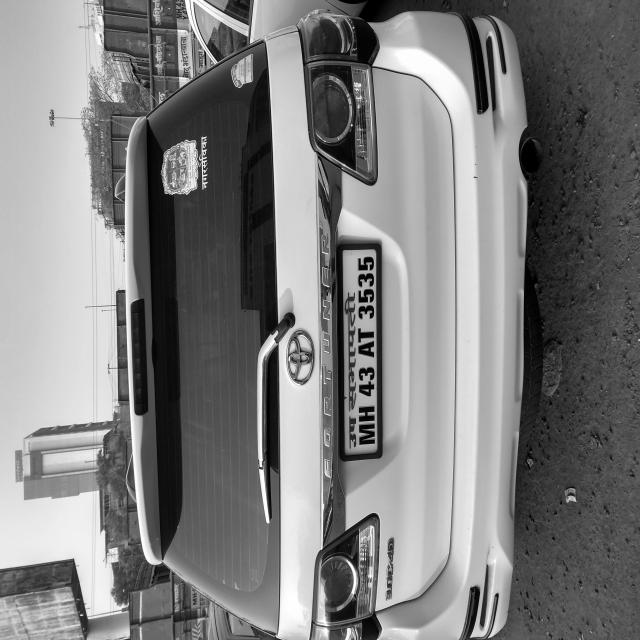car: (0, 149, 472, 640)
license-plate: (136, 451, 302, 515)
